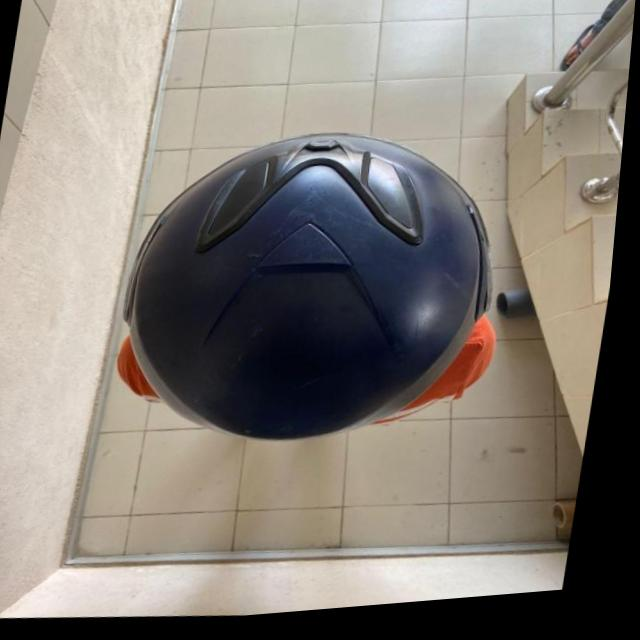helmet: (110, 113, 527, 477)
